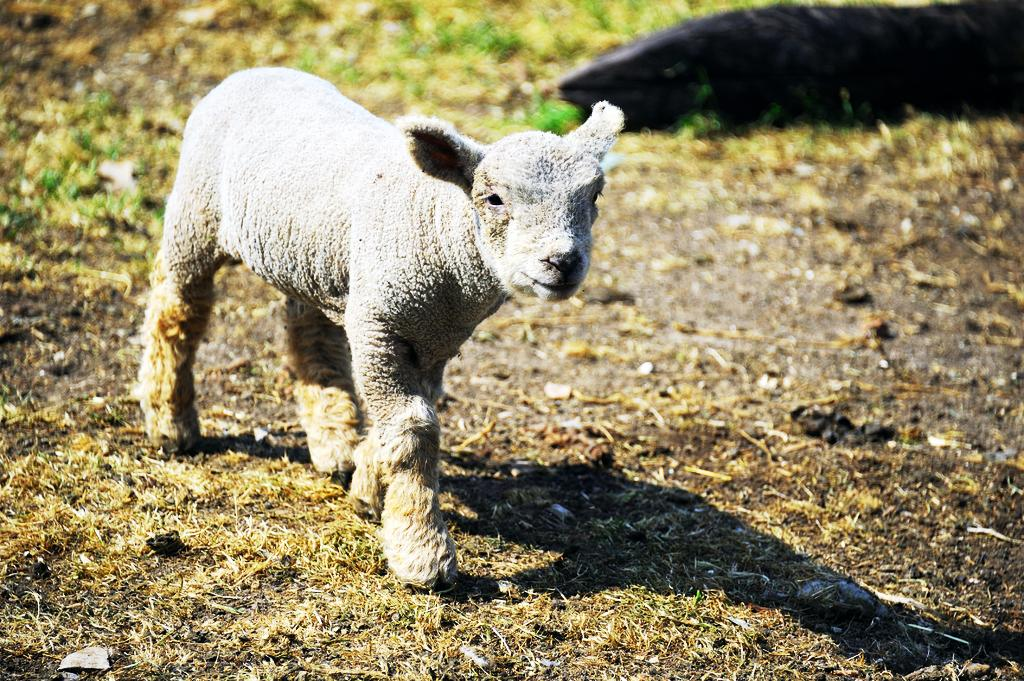Sheep: (116, 58, 638, 576)
